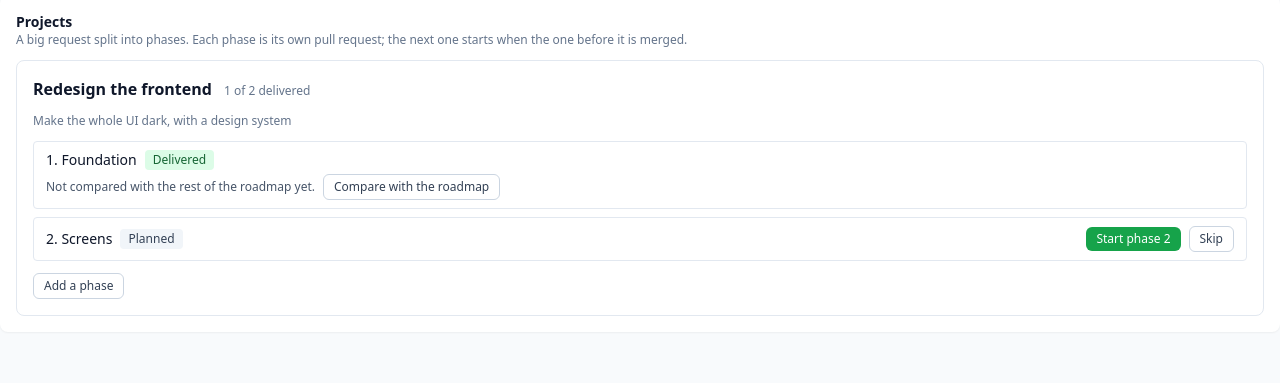
Scenario: comparing a delivered phase with the roadmap › says why when it could not be done, and offers it again
Click the button "Compare with the roadmap": [412, 187] box [323,174,500,200]
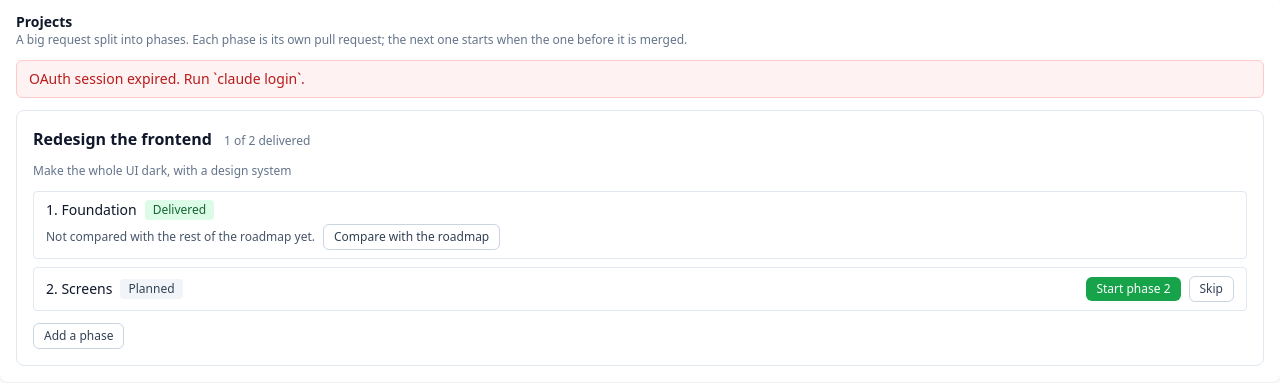
expect the button "Compare with the roadmap" is shown: met, box [323,224,500,250]
expect the message reads "OAuth session expired. Run `claude login`.": met, box [29,69,305,88]
